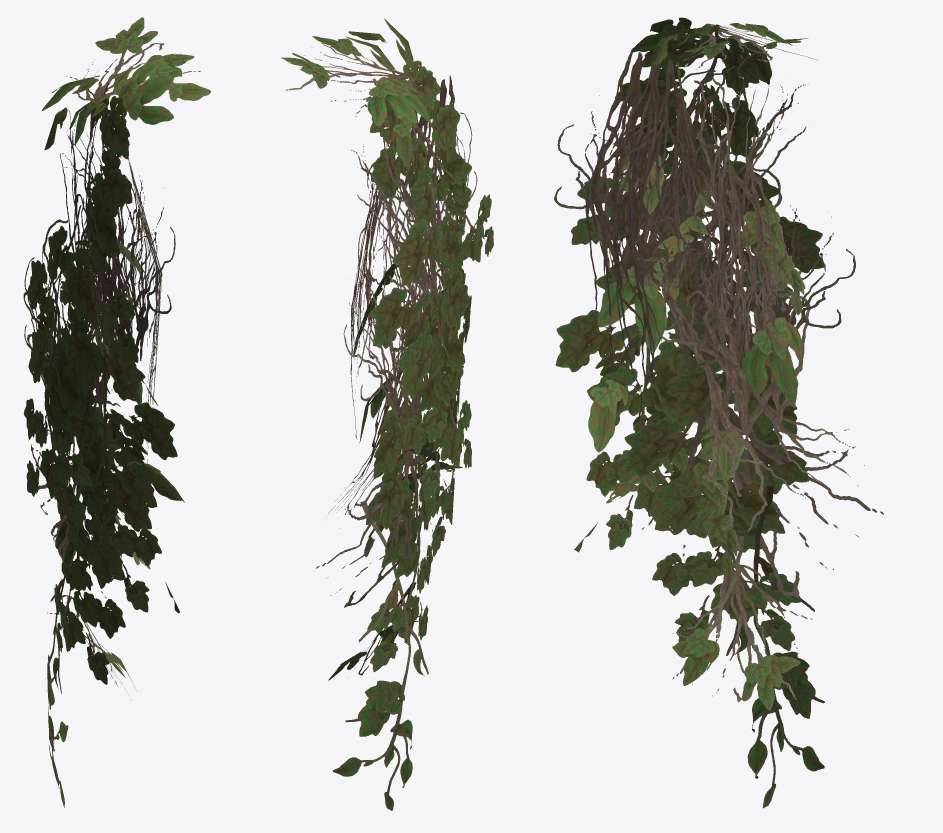
File: SM_Fol_Ivy_Hanging5.fbx
3 views of the same model, side by side, from view 1: azimuth 30°, elevation 25°; view 2: azimuth 150°, elevation 25°; view 3: azimuth 270°, elevation 25° (orthographic). The views are drawn at different scales.
Visible parts, largest first — view 1: SM_Fol_Ivy_Hanging5_LOD0; view 2: SM_Fol_Ivy_Hanging5_LOD0; view 3: SM_Fol_Ivy_Hanging5_LOD0.
Part boxes in pixels (<box>): SM_Fol_Ivy_Hanging5_LOD0: <box>23,17,210,807</box>; SM_Fol_Ivy_Hanging5_LOD0: <box>281,18,493,810</box>; SM_Fol_Ivy_Hanging5_LOD0: <box>554,17,883,808</box>.
Size of the model in its own units: 77.37 by 136 by 313.
Materials: 1 (1 with a texture image).
